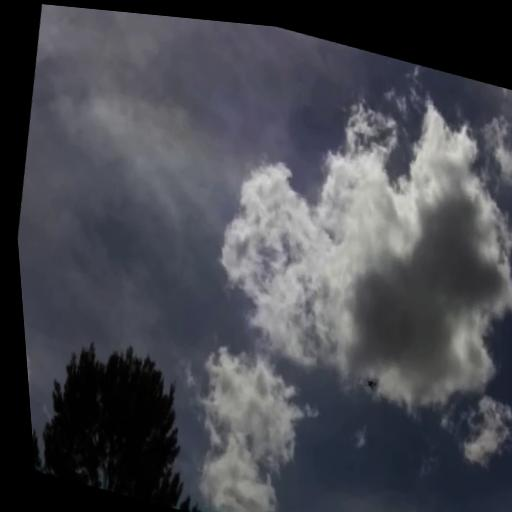drones: (360, 370, 380, 393)
